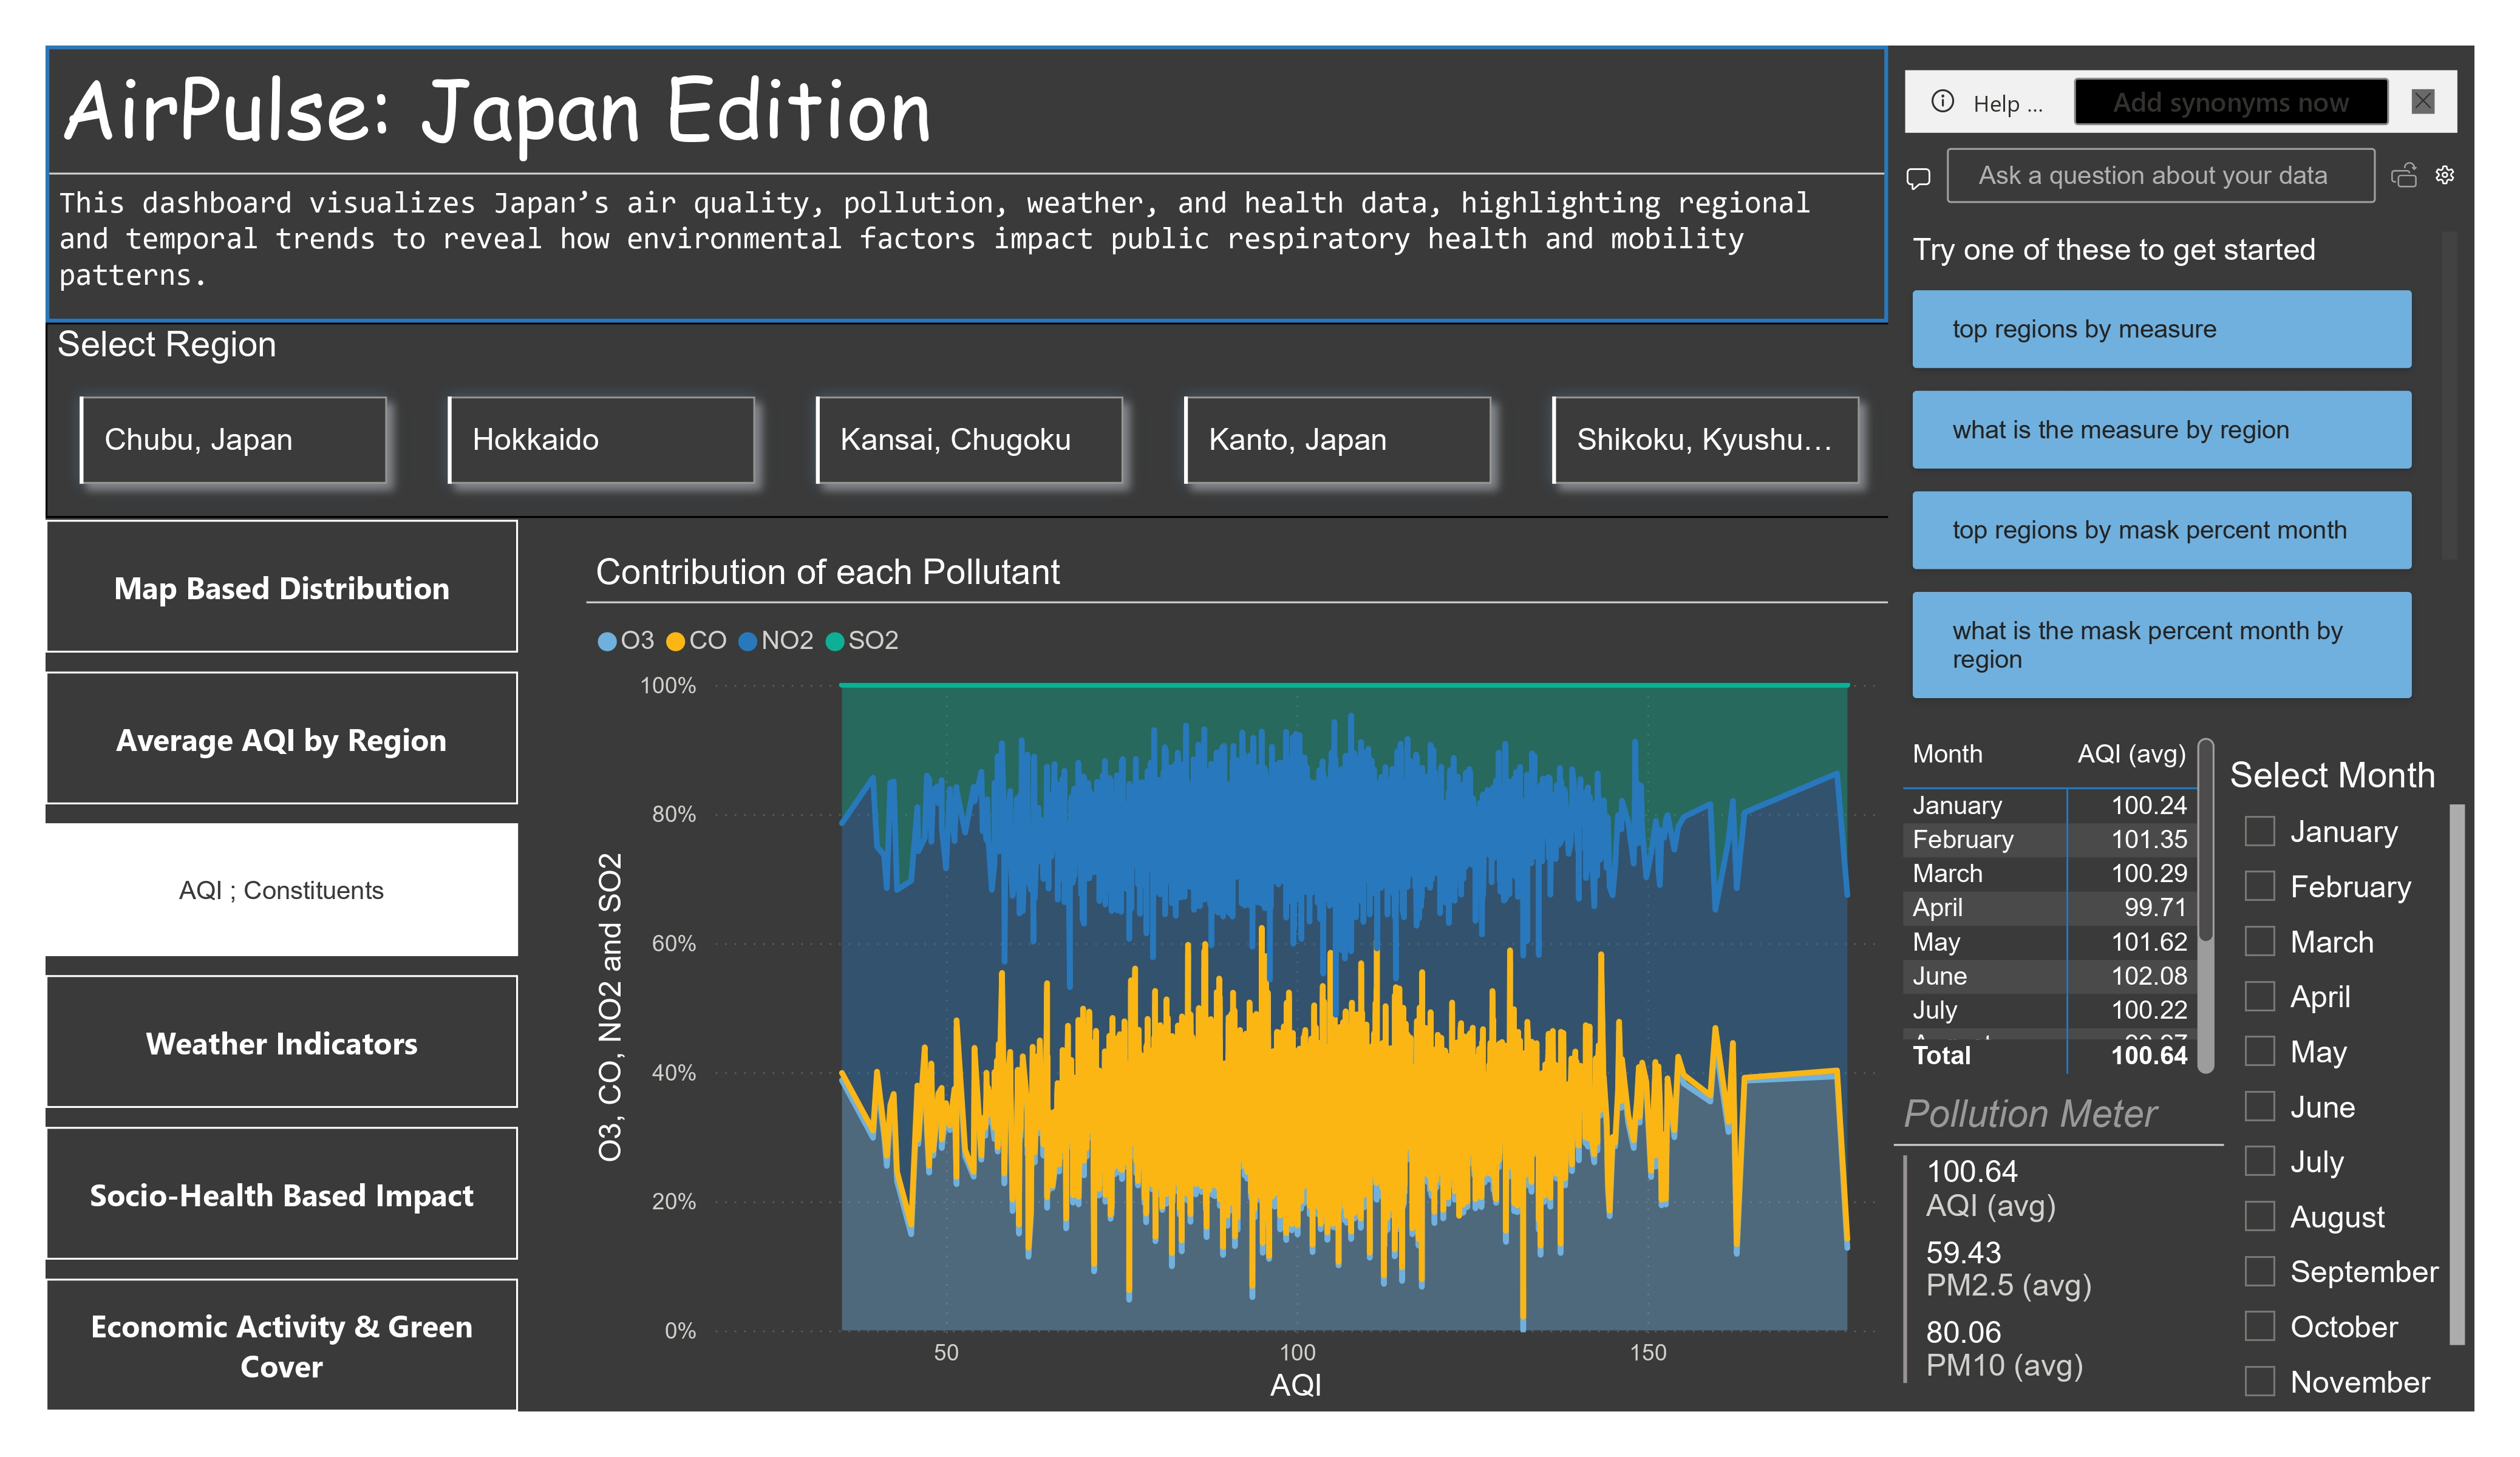

Layout of this report page (visuals, bound fields, positions):
{"tool":"powerbi","page":{"name":"Weather Indicators","canvas":[1280,720],"ordinal":3},"visuals":[{"type":"clusteredBarChart","title":"Weather Indicators by Quarter and Region","fields":{"Category":["air_quality_health_dataset.Date.Variation.Date Hierarchy.Quarter"],"Y":["Avg(air_quality_health_dataset.Humidity)","Avg(air_quality_health_dataset.Precipitation)","Avg(air_quality_health_dataset.Temperature)","Avg(air_quality_health_dataset.Wind Speed)"],"Rows":["air_quality_health_dataset.Region"]},"box":[283.8,268.5,658.1,452.2],"z":0},{"type":"advancedSlicerVisual","title":"Select Region","fields":{"Values":["air_quality_health_dataset.Region"]},"box":[0,145.7,974.3,102.9],"z":1000},{"type":"multiRowCard","title":"Pollution Meter","fields":{"Values":["Avg(air_quality_health_dataset.AQI)","Avg(air_quality_health_dataset.PM2.5)","Avg(air_quality_health_dataset.PM10)"]},"box":[973.9,552.3,173.9,168.3],"z":2000},{"type":"actionButton","box":[0,0,100,40],"z":3000},{"type":"slicer","title":"Select Month","fields":{"Values":["air_quality_health_dataset.Date.Variation.Date Hierarchy.Month"]},"box":[1145,372.9,135,346.4],"z":4000},{"type":"pivotTable","fields":{"Values":["Avg(air_quality_health_dataset.AQI)"],"Rows":["air_quality_health_dataset.Date.Variation.Date Hierarchy.Month"]},"box":[973.9,360.3,173.9,186.4],"z":5000},{"type":"qnaVisual","box":[971.4,0,308.6,360],"z":6000},{"type":"textbox","title":"AirPulse: Japan Edition","box":[0,0,971.4,145.7],"z":7000},{"type":"multiRowCard","title":"Pollution Meter","fields":{"Values":["Avg(air_quality_health_dataset.AQI)","Avg(air_quality_health_dataset.PM2.5)","Avg(air_quality_health_dataset.PM10)"]},"box":[973.9,551.7,173.9,168.3],"z":8000},{"type":"pivotTable","fields":{"Values":["Avg(air_quality_health_dataset.AQI)"],"Rows":["air_quality_health_dataset.Date.Variation.Date Hierarchy.Month"]},"box":[983.9,370.3,173.9,186.4],"z":9000},{"type":"bookmarkNavigator","box":[0,250.1,249.1,469.9],"z":11000}]}

Visuals, with their boxes on the page's 1280x720 design canvas (x1, y1, x2, y2). These are canvas units, not pixel positions in the 2520x1457 screenshot, which may show the page scaled, cropped or inside an application window:
"Weather Indicators by Quarter and Region" clusteredBarChart: [x1=284, y1=268, x2=942, y2=721]
"Select Region" advancedSlicerVisual: [x1=0, y1=146, x2=974, y2=249]
"Pollution Meter" multiRowCard: [x1=974, y1=552, x2=1148, y2=721]
actionButton: [x1=0, y1=0, x2=100, y2=40]
"Select Month" slicer: [x1=1145, y1=373, x2=1280, y2=719]
pivotTable - Avg(air_quality_health_dataset.AQI) x air_quality_health_dataset.Date.Variation.Date Hierarchy.Month: [x1=974, y1=360, x2=1148, y2=547]
qnaVisual: [x1=971, y1=0, x2=1280, y2=360]
"AirPulse: Japan Edition" textbox: [x1=0, y1=0, x2=971, y2=146]
"Pollution Meter" multiRowCard: [x1=974, y1=552, x2=1148, y2=720]
pivotTable - Avg(air_quality_health_dataset.AQI) x air_quality_health_dataset.Date.Variation.Date Hierarchy.Month: [x1=984, y1=370, x2=1158, y2=557]
bookmarkNavigator: [x1=0, y1=250, x2=249, y2=720]
